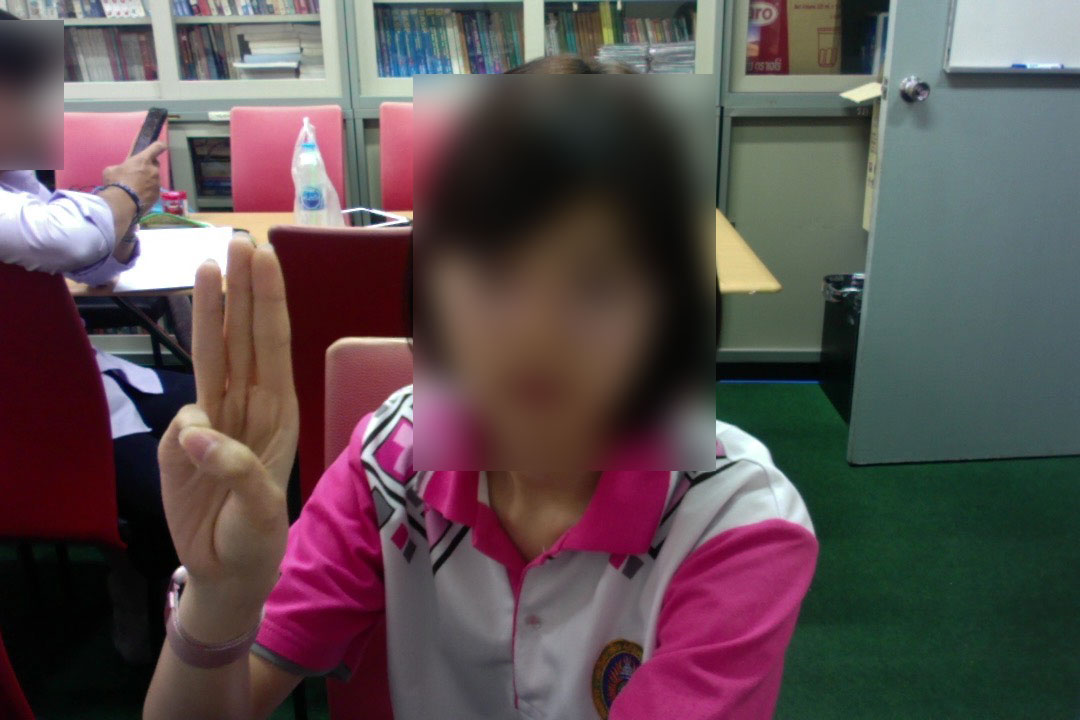wor: (138, 240, 314, 600)
